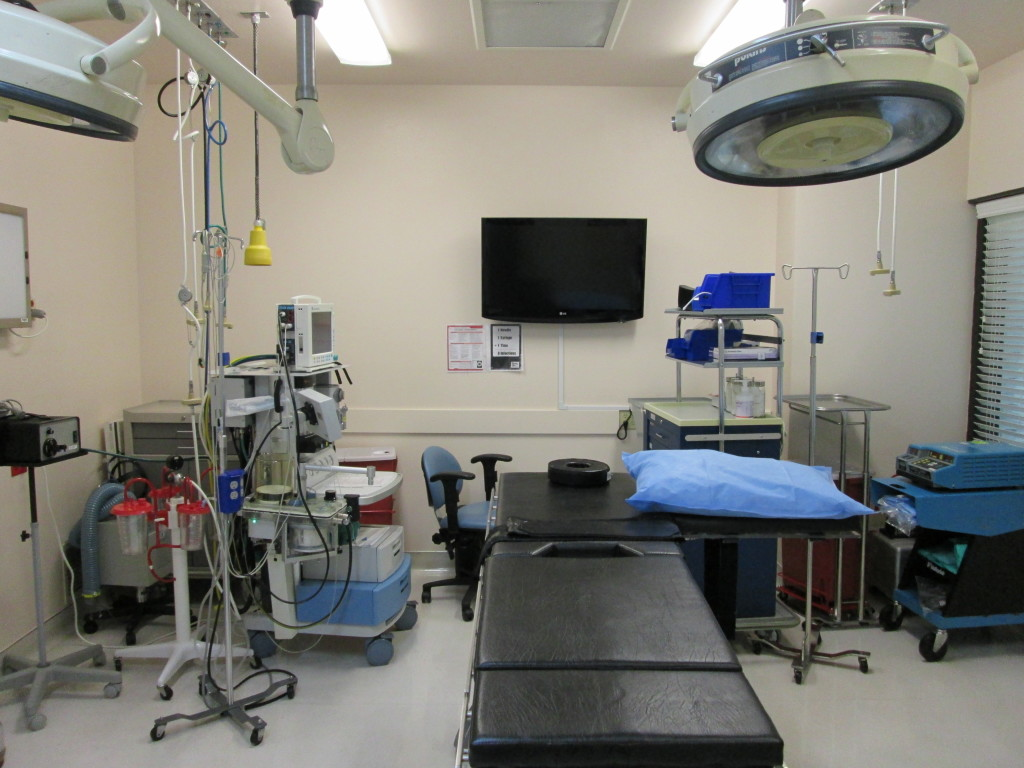TV: (479, 214, 647, 326)
chair: (418, 443, 509, 623)
electrosurgical_unit: (893, 439, 1023, 494)
iv_pole: (154, 1, 297, 740), (782, 258, 849, 648)
medical_drawer: (639, 394, 801, 651), (115, 395, 232, 581)
operating_bed: (459, 450, 860, 768)
surgical_light: (668, 1, 980, 186), (1, 1, 140, 144)
utility_cart: (782, 387, 891, 639)
ventilator: (220, 293, 422, 665)
